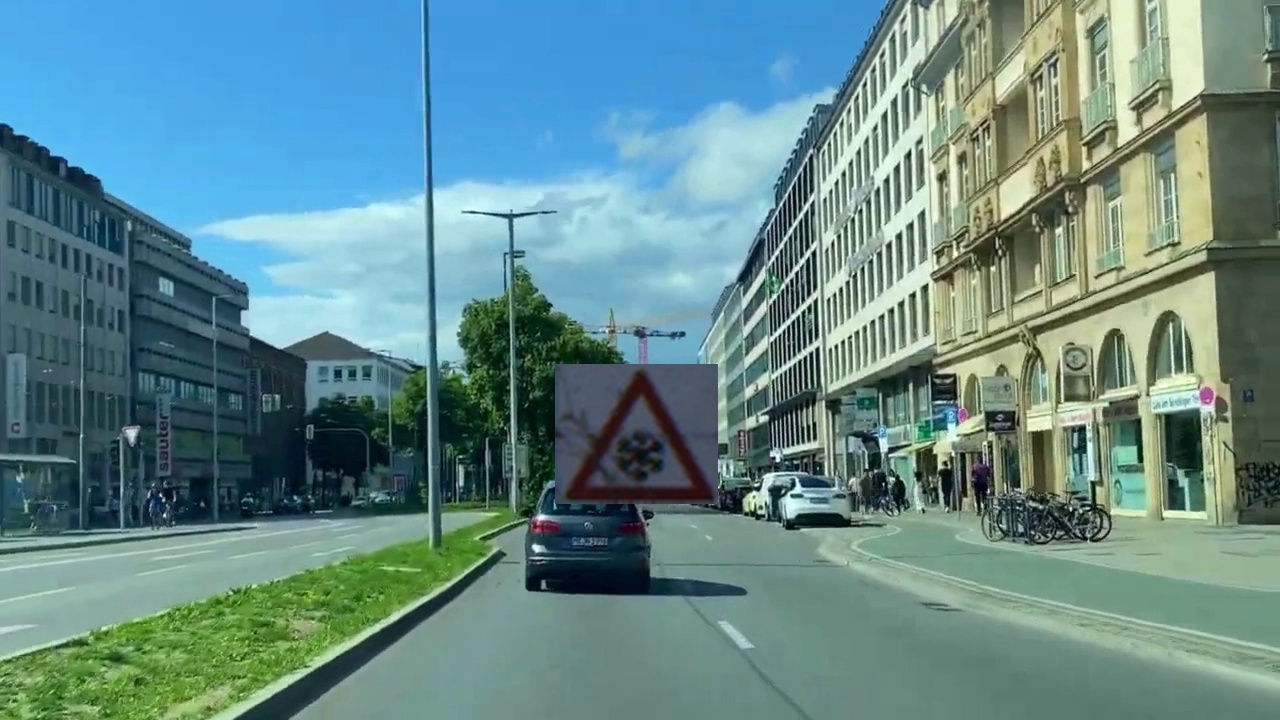Ice/snow: (555, 364, 718, 504)
